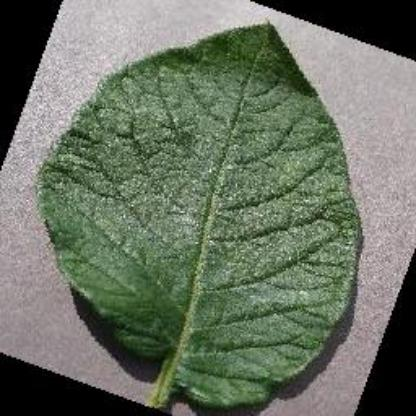Healthy-plant: (40, 20, 364, 408)
